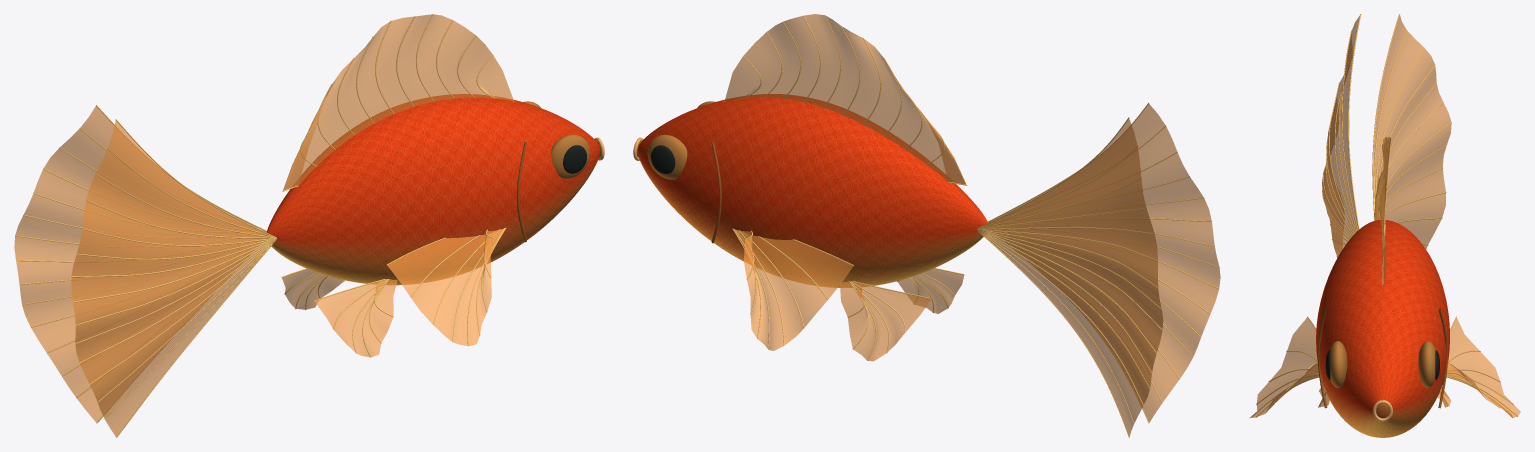
File: goldfish.glb
3 renders of one model, left to right at view 1: azimuth 30°, elevation 25°; view 2: azimuth 150°, elevation 25°; view 3: azimuth 270°, elevation 25°, orthographic.
Visible parts, largest first — view 1: Veil tail -1, Sculpted goldfish body, Fine fin ray structure, Raised iris -1; view 2: Veil tail -1, Sculpted goldfish body, Fine fin ray structure, Raised iris -1, Black pupil -1; view 3: Veil tail -1, Sculpted goldfish body, Fine fin ray structure, Raised iris -1, Curved gill crease -1.
Boxes of the visible parts, x1=… form: Veil tail -1: x1=14, y1=14, x2=513, y2=436; Sculpted goldfish body: x1=266, y1=94, x2=600, y2=285; Fine fin ray structure: x1=15, y1=14, x2=514, y2=437; Raised iris -1: x1=523, y1=101, x2=590, y2=179; Veil tail -1: x1=724, y1=14, x2=1220, y2=436; Sculpted goldfish body: x1=637, y1=94, x2=988, y2=287; Fine fin ray structure: x1=724, y1=15, x2=1219, y2=437; Raised iris -1: x1=647, y1=101, x2=714, y2=179; Black pupil -1: x1=651, y1=145, x2=675, y2=173; Veil tail -1: x1=1249, y1=15, x2=1520, y2=418; Sculpted goldfish body: x1=1316, y1=220, x2=1449, y2=437; Fine fin ray structure: x1=1252, y1=14, x2=1518, y2=417; Raised iris -1: x1=1330, y1=341, x2=1435, y2=387; Curved gill crease -1: x1=1317, y1=308, x2=1448, y2=418.
Size of the model in its own units: 3.91 by 2.29 by 1.68.
Materials: 7 (1 with a texture image).
